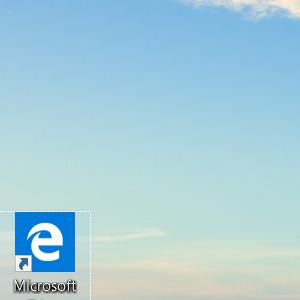edge: (15, 212, 75, 272)
